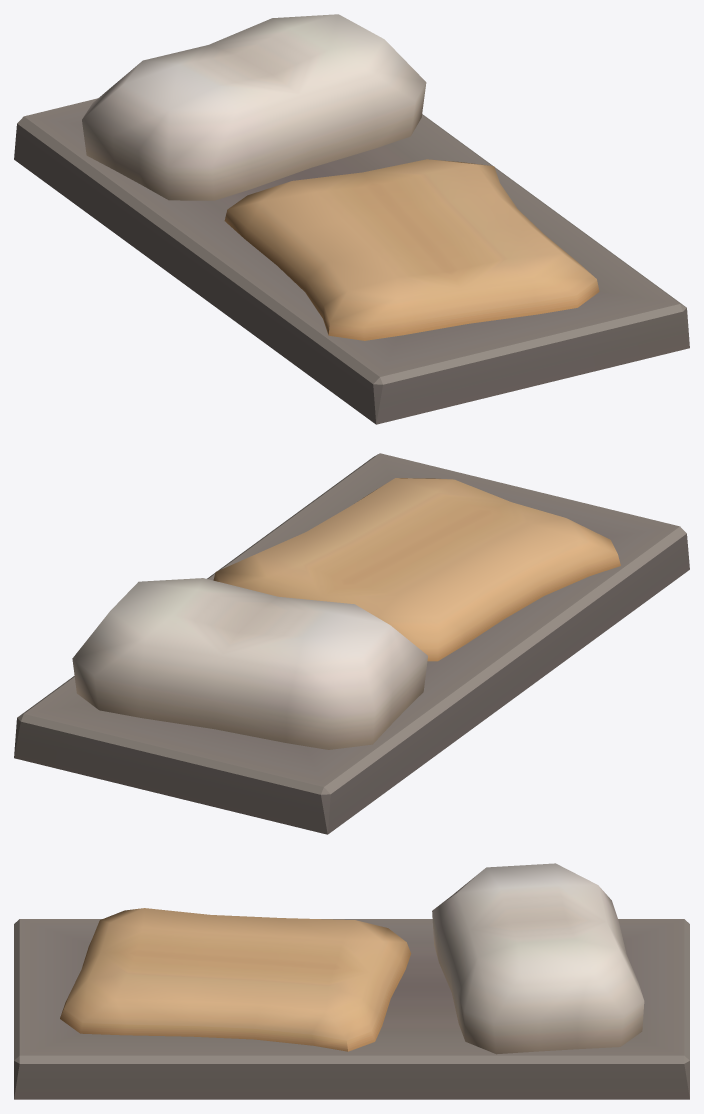
File: kay-cama-palha.gltf
3 views of the same model, one above another, from view 1: azimuth 30°, elevation 25°; view 2: azimuth 150°, elevation 25°; view 3: azimuth 270°, elevation 25° (orthographic). The views are drawn at different scales.
Visible parts, largest first — view 1: bed_floor; view 2: bed_floor; view 3: bed_floor.
Part boxes in pixels (box(x1,y1,x2,y2)): bed_floor: box(14, 14, 689, 424); bed_floor: box(14, 453, 689, 834); bed_floor: box(14, 863, 689, 1099).
Bounding box in the file's own units: 0.9751 × 0.3656 × 1.95.
1 material, 1 textured.
